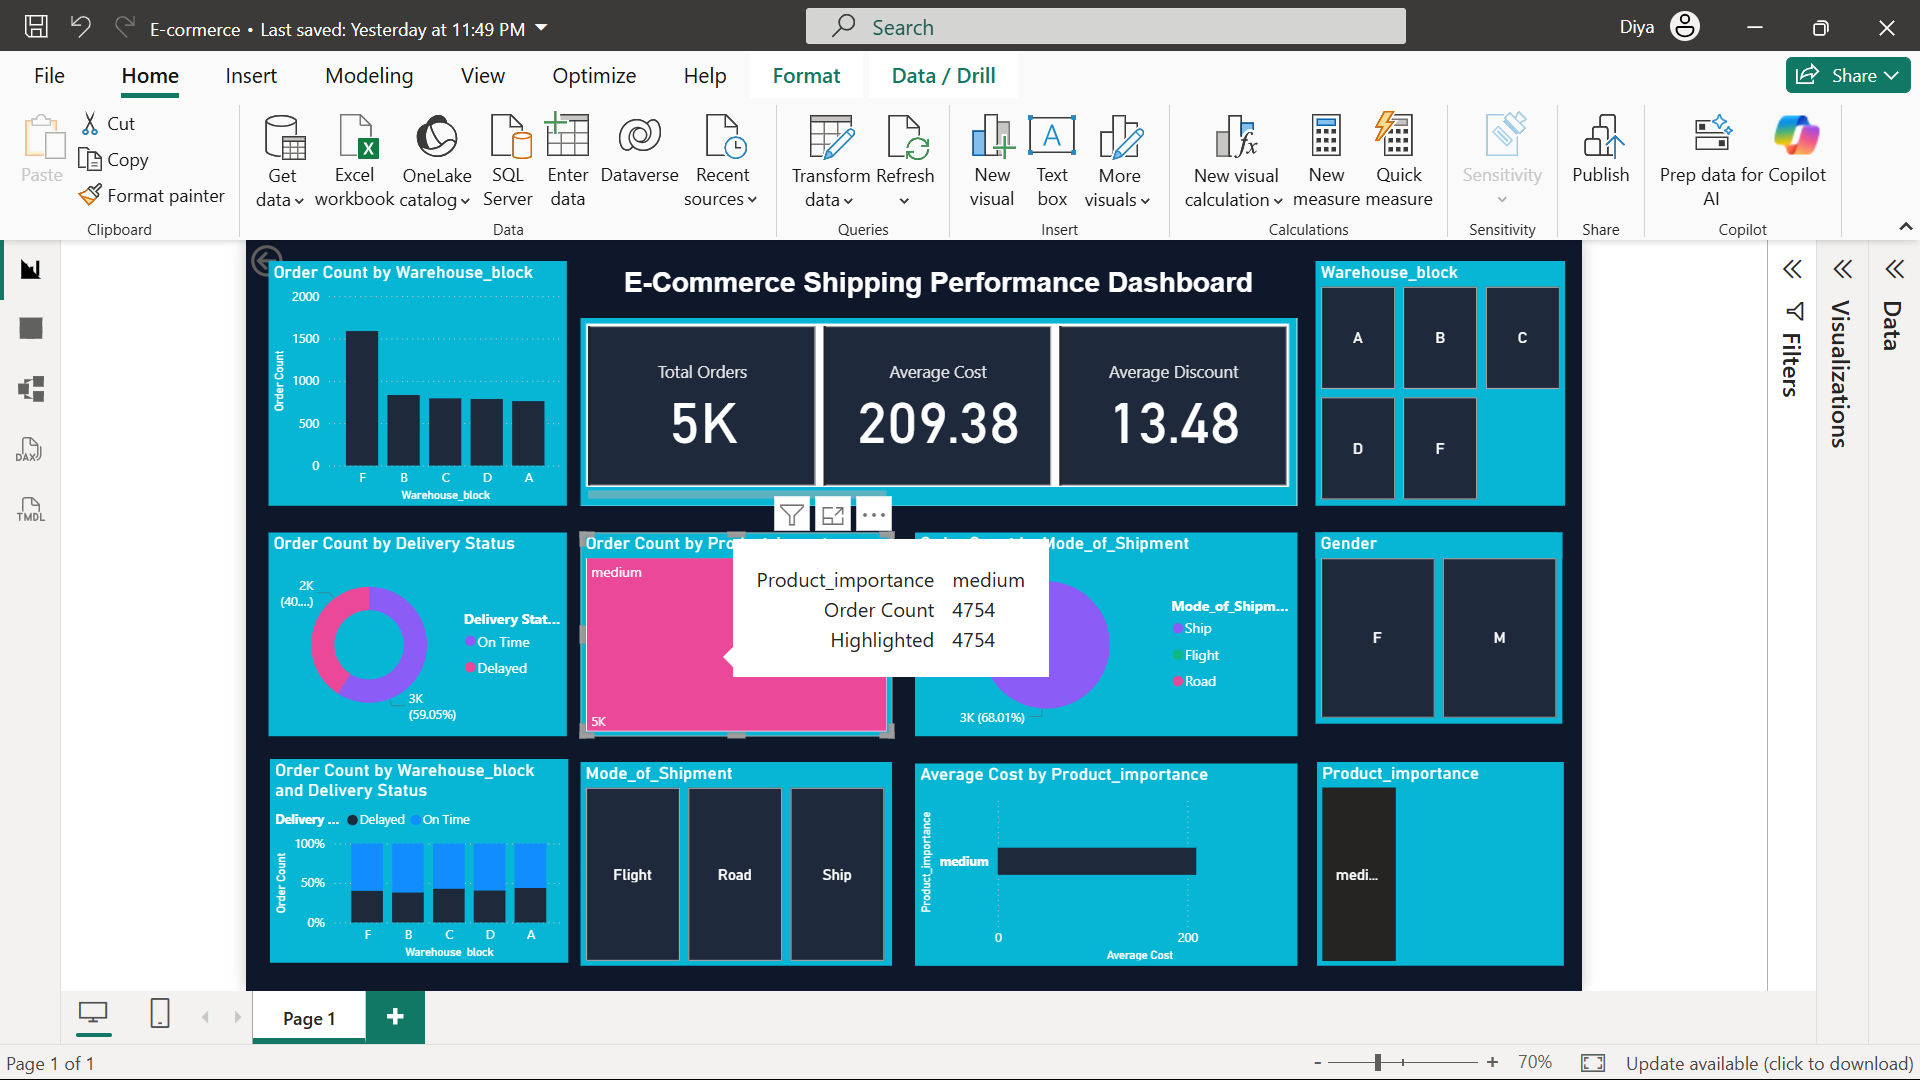

The dashboard page shown, as its layout file describes it:
{"tool":"powerbi","page":{"name":"Page 1","canvas":[1280,720],"ordinal":0},"visuals":[{"type":"cardVisual","fields":{"Data":["Ecommerce Shipping Data.Total Orders","Ecommerce Shipping Data.Average Cost","Ecommerce Shipping Data.Average Discount","Ecommerce Shipping Data.Average Rating","Ecommerce Shipping Data.Average Weight","Ecommerce Shipping Data.Delayed %","Ecommerce Shipping Data.On Time %"]},"box":[321.2,74.2,686.4,180.3],"z":0},{"type":"actionButton","box":[0,0,100,40],"z":1000},{"type":"treemap","fields":{"Group":["Ecommerce Shipping Data.Product_importance"],"Values":["Ecommerce Shipping Data.Order Count"]},"box":[321.2,280.3,298.5,195.5],"z":2000},{"type":"clusteredColumnChart","fields":{"Category":["Ecommerce Shipping Data.Warehouse_block"],"Y":["Ecommerce Shipping Data.Order Count"]},"box":[21.2,19.7,286.2,234.7],"z":3000},{"type":"pieChart","fields":{"Category":["Ecommerce Shipping Data.Mode_of_Shipment"],"Y":["Ecommerce Shipping Data.Order Count"]},"box":[640.9,280.3,366.7,195.5],"z":4000},{"type":"donutChart","fields":{"Category":["Ecommerce Shipping Data.Delivery Status"],"Y":["Ecommerce Shipping Data.Order Count"]},"box":[21.2,280.1,286.2,195.3],"z":5000},{"type":"hundredPercentStackedColumnChart","fields":{"Category":["Ecommerce Shipping Data.Warehouse_block"],"Y":["Ecommerce Shipping Data.Order Count"],"Series":["Ecommerce Shipping Data.Delivery Status"]},"box":[22.7,498.2,286.2,195.3],"z":6000},{"type":"advancedSlicerVisual","fields":{"Values":["Ecommerce Shipping Data.Warehouse_block"]},"box":[1025.8,19.7,239.4,234.8],"z":7000},{"type":"advancedSlicerVisual","fields":{"Values":["Ecommerce Shipping Data.Mode_of_Shipment"]},"box":[321.2,500,298.5,195.5],"z":8000},{"type":"advancedSlicerVisual","fields":{"Values":["Ecommerce Shipping Data.Gender"]},"box":[1025.8,280.3,236.4,183.3],"z":9000},{"type":"advancedSlicerVisual","fields":{"Values":["Ecommerce Shipping Data.Product_importance"]},"box":[1027.3,500,236.4,195.5],"z":10000},{"type":"clusteredBarChart","fields":{"Category":["Ecommerce Shipping Data.Product_importance"],"Y":["Ecommerce Shipping Data.Average Cost"]},"box":[640.9,501.5,366.7,193.9],"z":11000},{"type":"textbox","box":[321.2,19.7,686.4,43.9],"z":12000}]}

Visuals, with their boxes on the page's 1280x720 design canvas (x1, y1, x2, y2). These are canvas units, not pixel positions in the 1920x1080 screenshot, which may show the page scaled, cropped or inside an application window:
cardVisual - Ecommerce Shipping Data.Total Orders x Ecommerce Shipping Data.Average Cost: x1=321 y1=74 x2=1008 y2=254
actionButton: x1=0 y1=0 x2=100 y2=40
treemap - Ecommerce Shipping Data.Product_importance x Ecommerce Shipping Data.Order Count: x1=321 y1=280 x2=620 y2=476
clusteredColumnChart - Ecommerce Shipping Data.Warehouse_block x Ecommerce Shipping Data.Order Count: x1=21 y1=20 x2=307 y2=254
pieChart - Ecommerce Shipping Data.Mode_of_Shipment x Ecommerce Shipping Data.Order Count: x1=641 y1=280 x2=1008 y2=476
donutChart - Ecommerce Shipping Data.Delivery Status x Ecommerce Shipping Data.Order Count: x1=21 y1=280 x2=307 y2=475
hundredPercentStackedColumnChart - Ecommerce Shipping Data.Warehouse_block x Ecommerce Shipping Data.Order Count: x1=23 y1=498 x2=309 y2=694
advancedSlicerVisual - Ecommerce Shipping Data.Warehouse_block: x1=1026 y1=20 x2=1265 y2=254
advancedSlicerVisual - Ecommerce Shipping Data.Mode_of_Shipment: x1=321 y1=500 x2=620 y2=696
advancedSlicerVisual - Ecommerce Shipping Data.Gender: x1=1026 y1=280 x2=1262 y2=464
advancedSlicerVisual - Ecommerce Shipping Data.Product_importance: x1=1027 y1=500 x2=1264 y2=696
clusteredBarChart - Ecommerce Shipping Data.Product_importance x Ecommerce Shipping Data.Average Cost: x1=641 y1=502 x2=1008 y2=695
textbox: x1=321 y1=20 x2=1008 y2=64
